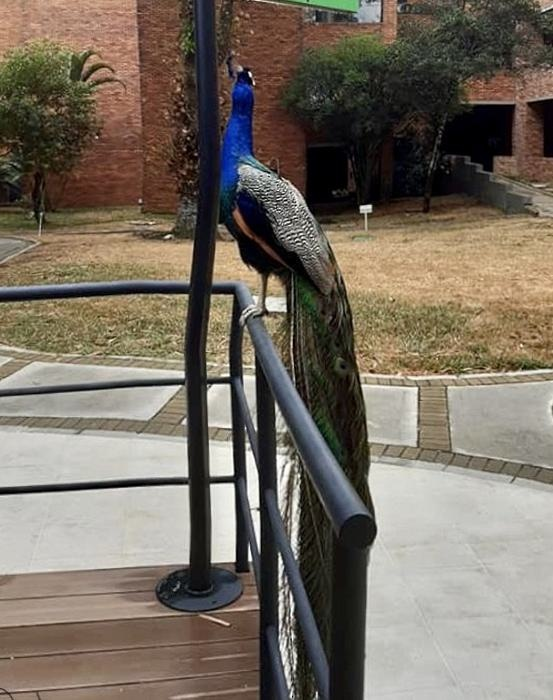peacock: (201, 40, 420, 492)
